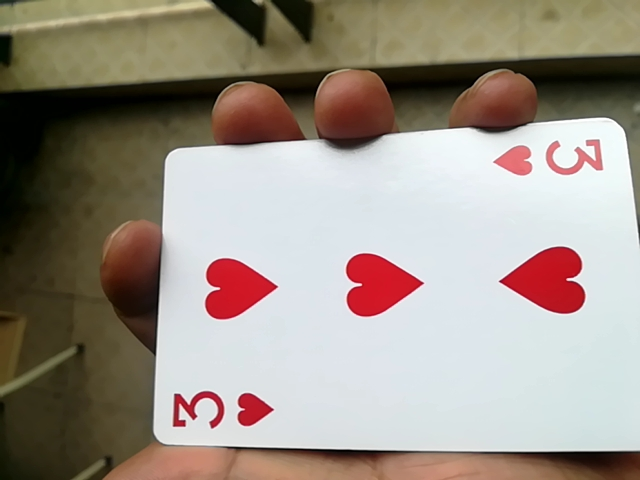hx 3: (137, 123, 632, 471)
